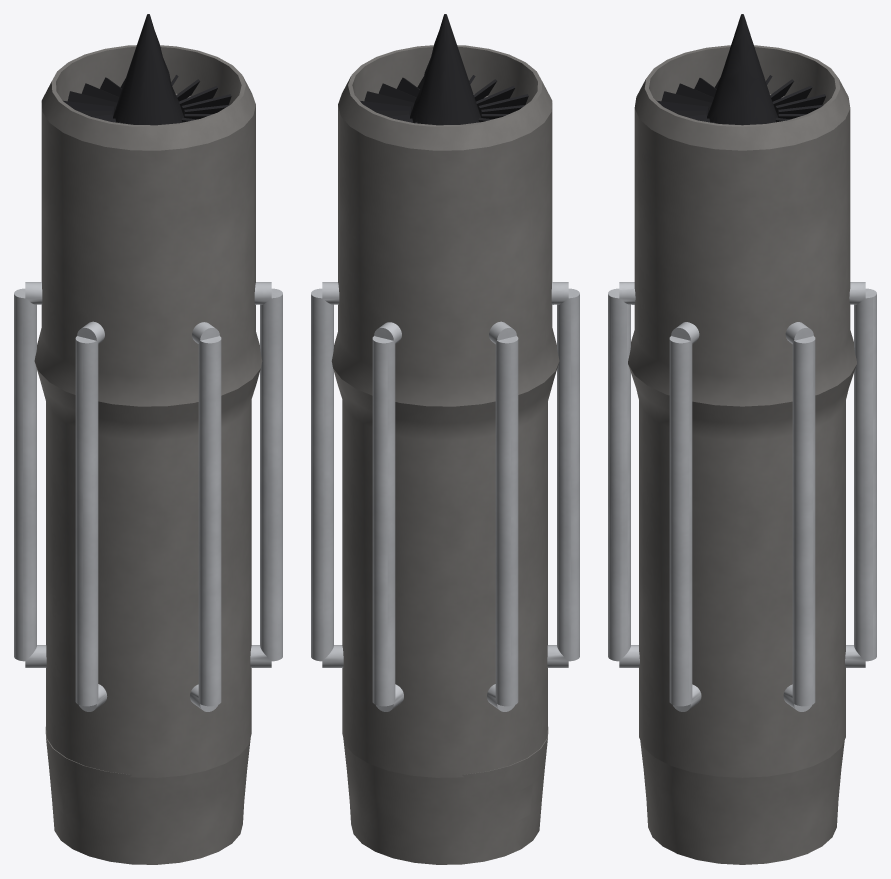
Rendered from jet03_turbo_ramjet_ab.glb.
3 views of the same model, side by side, from view 1: azimuth 30°, elevation 25°; view 2: azimuth 150°, elevation 25°; view 3: azimuth 270°, elevation 25° (orthographic).
Visible parts, largest first — view 1: casing, bypass_tubes, nozzle, spinner_vanes; view 2: casing, bypass_tubes, nozzle, spinner_vanes; view 3: casing, bypass_tubes, nozzle, spinner_vanes.
Boxes of the visible parts, box(x1,y1,x2,y2) form: casing: box(34, 45, 262, 777); bypass_tubes: box(14, 282, 282, 711); nozzle: box(45, 727, 250, 864); spinner_vanes: box(63, 14, 231, 125); casing: box(331, 45, 559, 777); bypass_tubes: box(311, 282, 579, 711); nozzle: box(343, 727, 548, 864); spinner_vanes: box(360, 14, 528, 125); casing: box(628, 45, 856, 777); bypass_tubes: box(608, 282, 876, 711); nozzle: box(640, 740, 844, 864); spinner_vanes: box(656, 14, 825, 125).
Size of the model in its own units: 1.65 by 6.25 by 1.88.
Materials: 4 (3 with a texture image).
